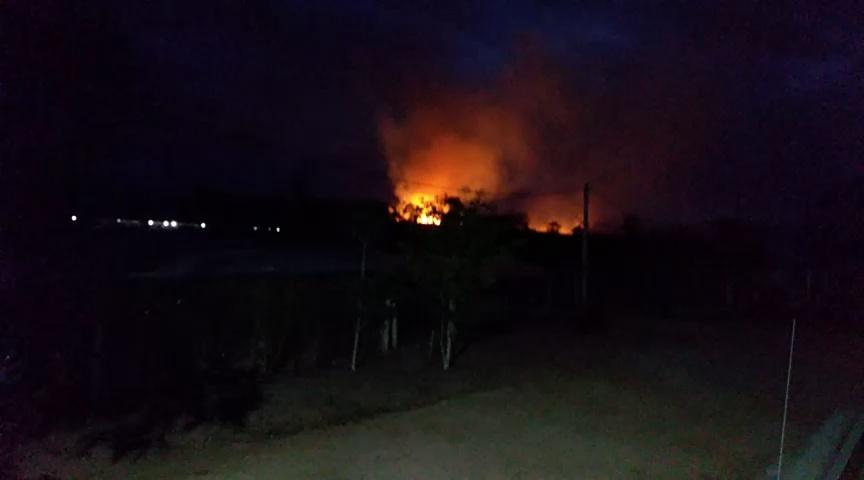fire: (406, 193, 443, 226)
